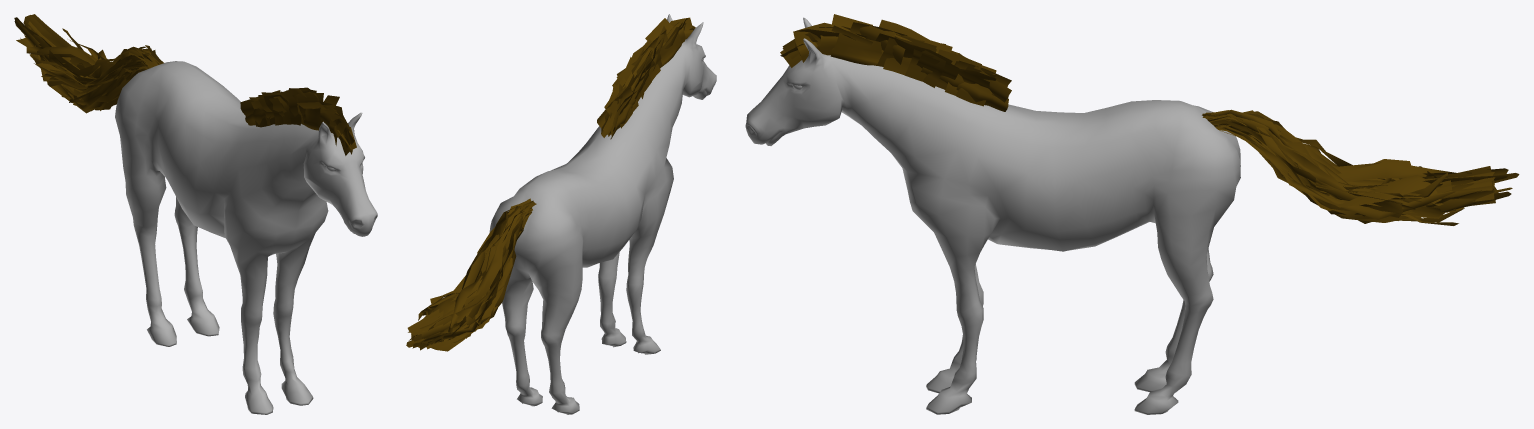
The model's file is horseSplit.fbx.
3 views of the same model, side by side, from view 1: azimuth 30°, elevation 25°; view 2: azimuth 150°, elevation 25°; view 3: azimuth 270°, elevation 25° (orthographic). The views are drawn at different scales.
Visible parts, largest first — view 1: body, head, tail, leg_f_r, leg_b_r, maine, leg_f_l, leg_b_l; view 2: body, tail, leg_b_r, maine, head, leg_f_r, leg_b_l, leg_f_l; view 3: body, tail, head, maine, leg_b_l, leg_f_l, leg_b_r, leg_f_r.
Boxes of the visible parts, x1,y1,x2,y2 form: body: [115, 61, 328, 336]; head: [254, 112, 377, 236]; tail: [14, 14, 163, 113]; leg_f_r: [224, 199, 276, 414]; leg_b_r: [115, 117, 176, 346]; maine: [240, 87, 356, 155]; leg_f_l: [273, 212, 327, 405]; leg_b_l: [174, 197, 219, 336]; body: [489, 105, 673, 279]; tail: [406, 198, 536, 351]; leg_b_r: [525, 241, 583, 414]; maine: [597, 17, 695, 139]; head: [638, 14, 716, 143]; leg_f_r: [626, 179, 673, 354]; leg_b_l: [502, 265, 542, 406]; leg_f_l: [598, 252, 626, 347]; body: [902, 89, 1240, 251]; tail: [1202, 109, 1519, 225]; head: [745, 17, 943, 171]; maine: [780, 14, 1011, 111]; leg_b_l: [1134, 187, 1236, 414]; leg_f_l: [910, 195, 1000, 414]; leg_b_r: [1134, 248, 1213, 392]; leg_f_r: [926, 264, 983, 393].
Size of the model in its own units: 68.88 by 234 by 434.
